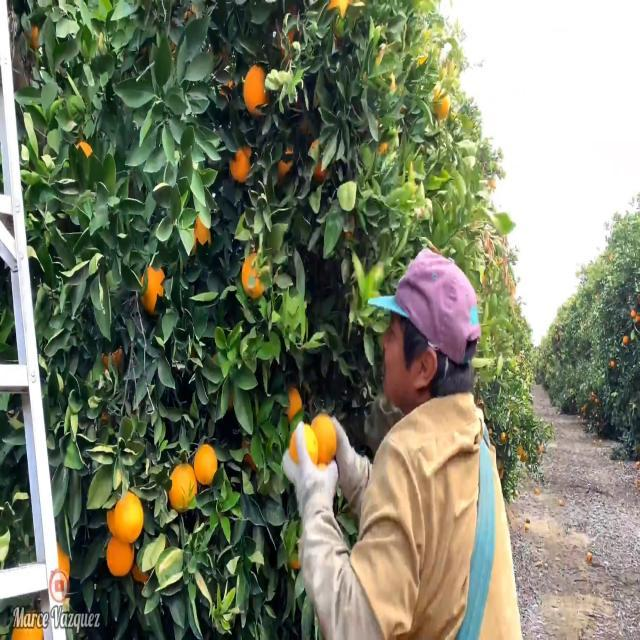Jeruk Sudah Matang: (310, 408, 340, 469), (114, 492, 148, 545), (284, 424, 318, 474), (100, 534, 138, 577), (240, 252, 270, 306), (168, 461, 198, 512), (242, 64, 272, 114), (140, 264, 170, 312), (227, 143, 255, 191), (193, 443, 220, 489), (282, 378, 304, 423), (428, 84, 452, 122)
